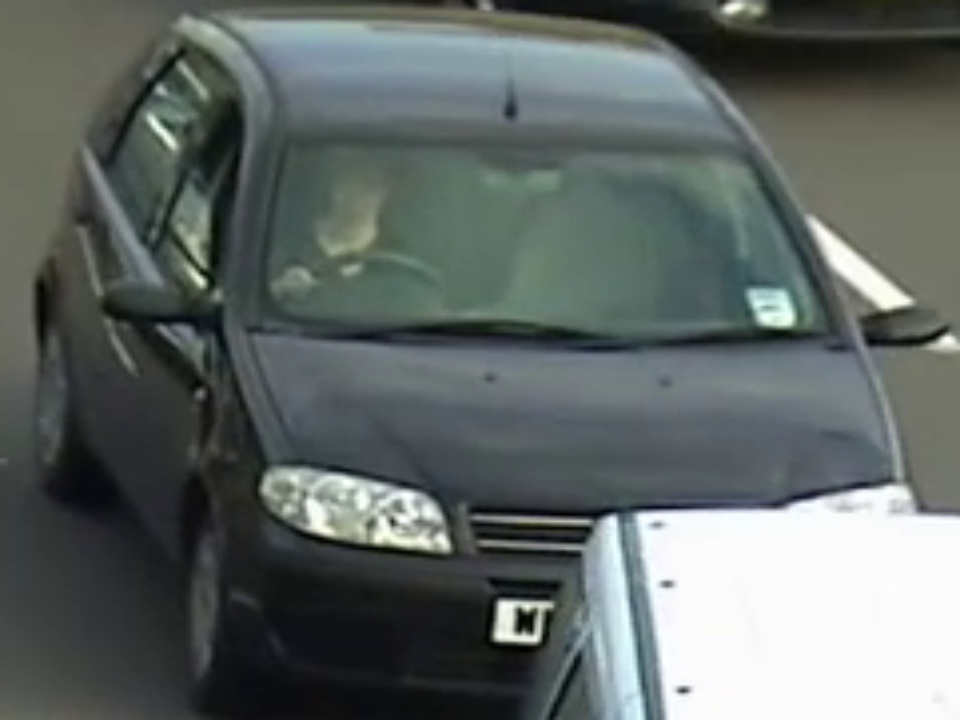ONE: (251, 130, 827, 336)
